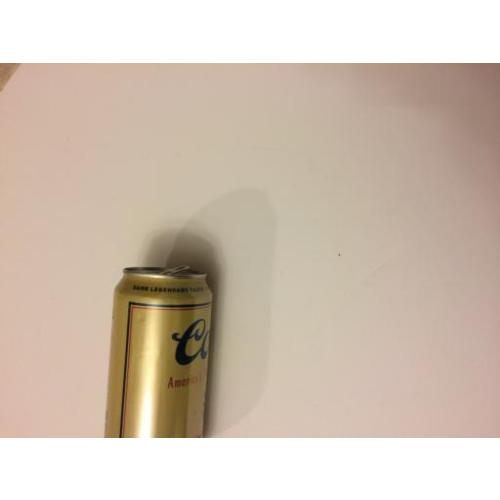metal: (112, 266, 211, 435)
